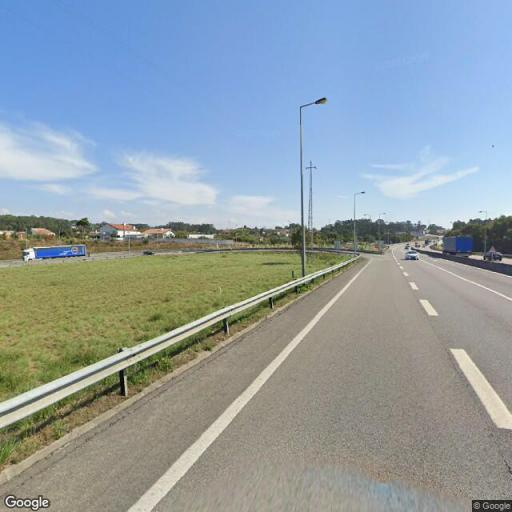ss_1: (306, 157, 318, 250)
